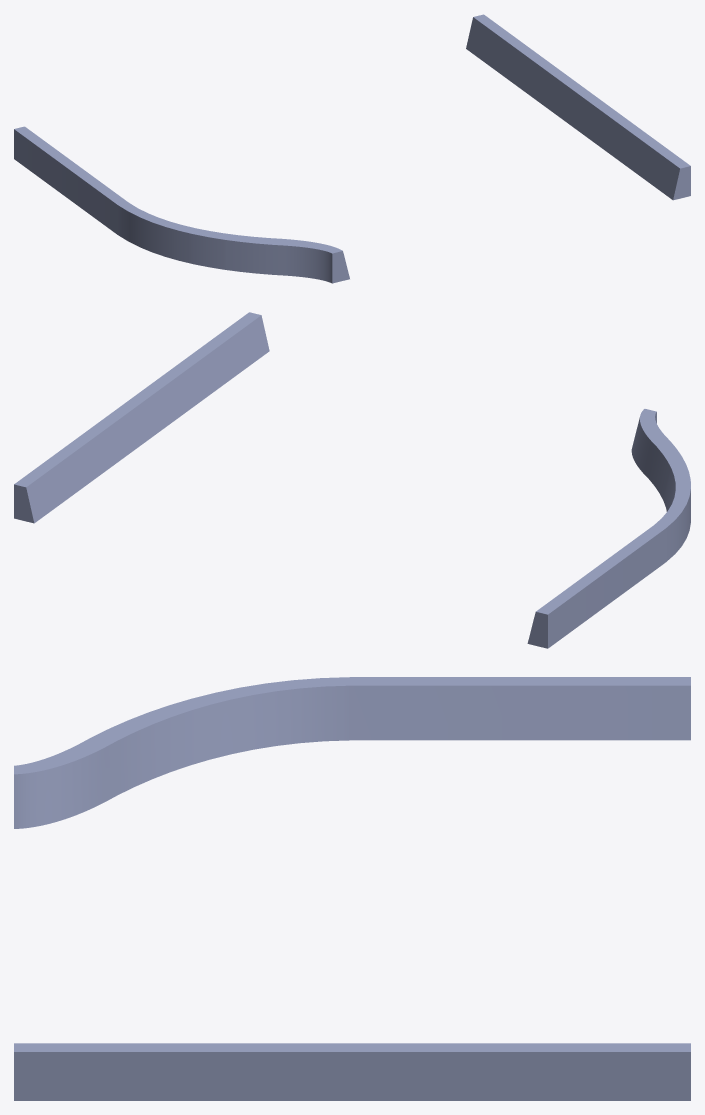
File: road-side-exit-barrier.glb
3 views of the same model, one above another, from view 1: azimuth 30°, elevation 25°; view 2: azimuth 150°, elevation 25°; view 3: azimuth 270°, elevation 25° (orthographic). The views are drawn at different scales.
Visible parts, largest first — view 1: road-side-exit-barrier; view 2: road-side-exit-barrier; view 3: road-side-exit-barrier.
Part boxes in pixels (x1=…): road-side-exit-barrier: x1=14, y1=14, x2=690, y2=283; road-side-exit-barrier: x1=14, y1=312, x2=690, y2=648; road-side-exit-barrier: x1=14, y1=677, x2=690, y2=1100.
Size of the model in its own units: 13.1 by 0.7996 by 10.
1 material, 1 textured.
